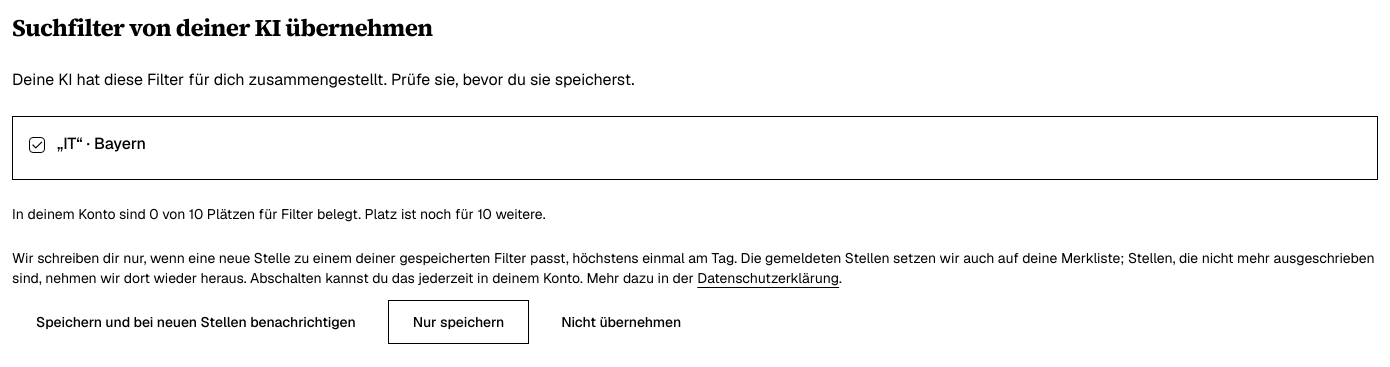
SuchprofilImport › verlangt vor dem Einschalten die bestaetigte Adresse und holt es danach nach
This screenshot has width=1390, height=367.
Click the button "Speichern und bei neuen Stellen benachrichtigen" at (196, 322), box x1=12 y1=300 x2=380 y2=344
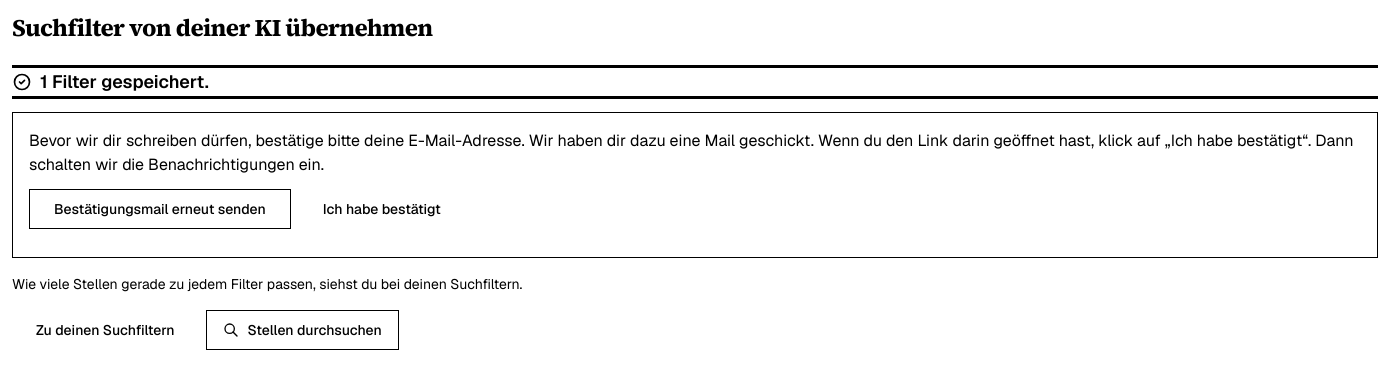
Expected: the text "bestätige bitte deine E-Mail-Adresse" is shown, x1=29 y1=130 x2=1354 y2=175
Click the button "Ich habe bestätigt" at (382, 209), box x1=299 y1=189 x2=465 y2=229
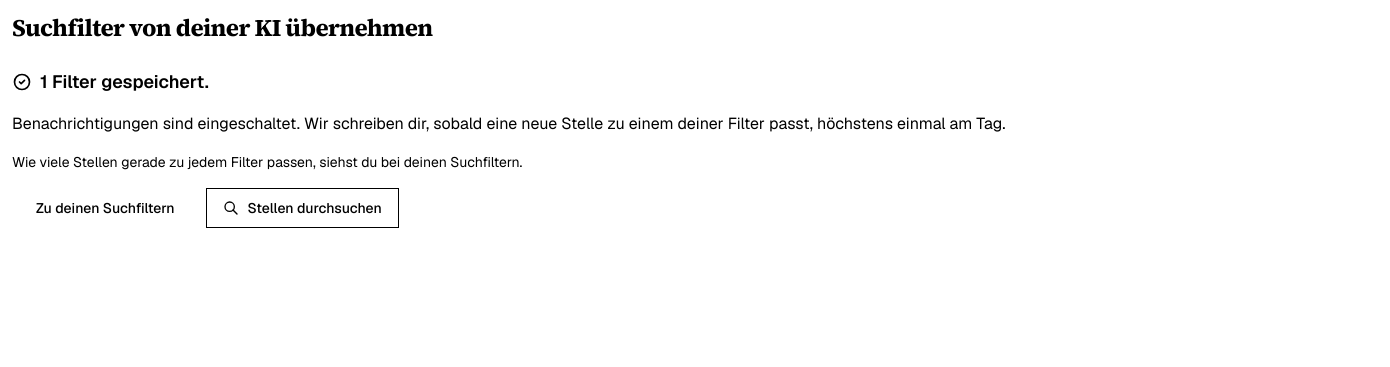
Expected: the text "Benachrichtigungen sind eingeschaltet" is shown, x1=12 y1=113 x2=1006 y2=134
